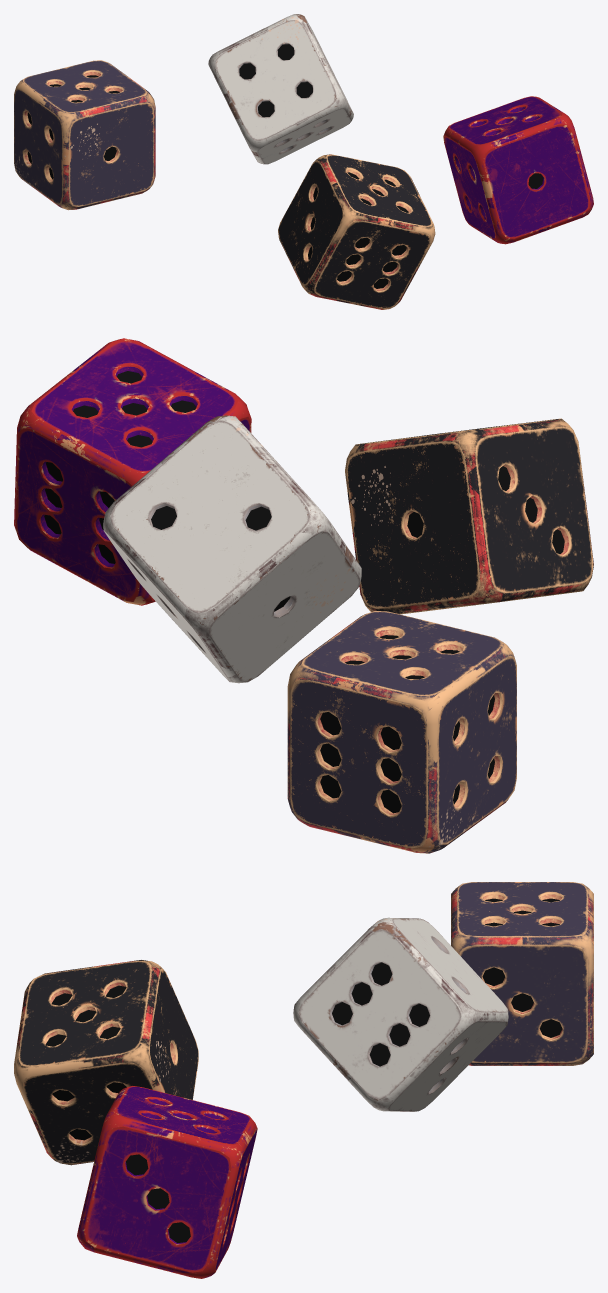
The model's file is dices.glb.
The picture shows the model from 3 angles, top to bottom: view 1: azimuth 30°, elevation 25°; view 2: azimuth 150°, elevation 25°; view 3: azimuth 270°, elevation 25°; orthographic projection. The views are drawn at different scales.
Parts seen in each view (by area): view 1: dice_01, dice_02, dice_00, dice_03; view 2: dice_02, dice_01, dice_03, dice_00; view 3: dice_03, dice_01, dice_00, dice_02.
Part boxes in pixels (x1,y1,x2,y2): dice_01: [278, 154, 435, 309]; dice_02: [14, 60, 155, 210]; dice_00: [443, 96, 593, 244]; dice_03: [208, 14, 353, 164]; dice_02: [287, 611, 516, 853]; dice_01: [345, 418, 593, 614]; dice_03: [103, 415, 361, 683]; dice_00: [14, 338, 251, 605]; dice_03: [293, 917, 508, 1111]; dice_01: [14, 960, 198, 1165]; dice_00: [77, 1086, 257, 1278]; dice_02: [451, 882, 593, 1065].
Size of the model in its own units: 8.69 by 4.04 by 8.12.
4 materials, 4 textured.
